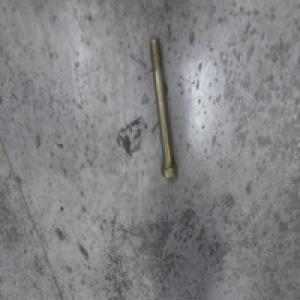Bolt: (147, 37, 177, 177)
